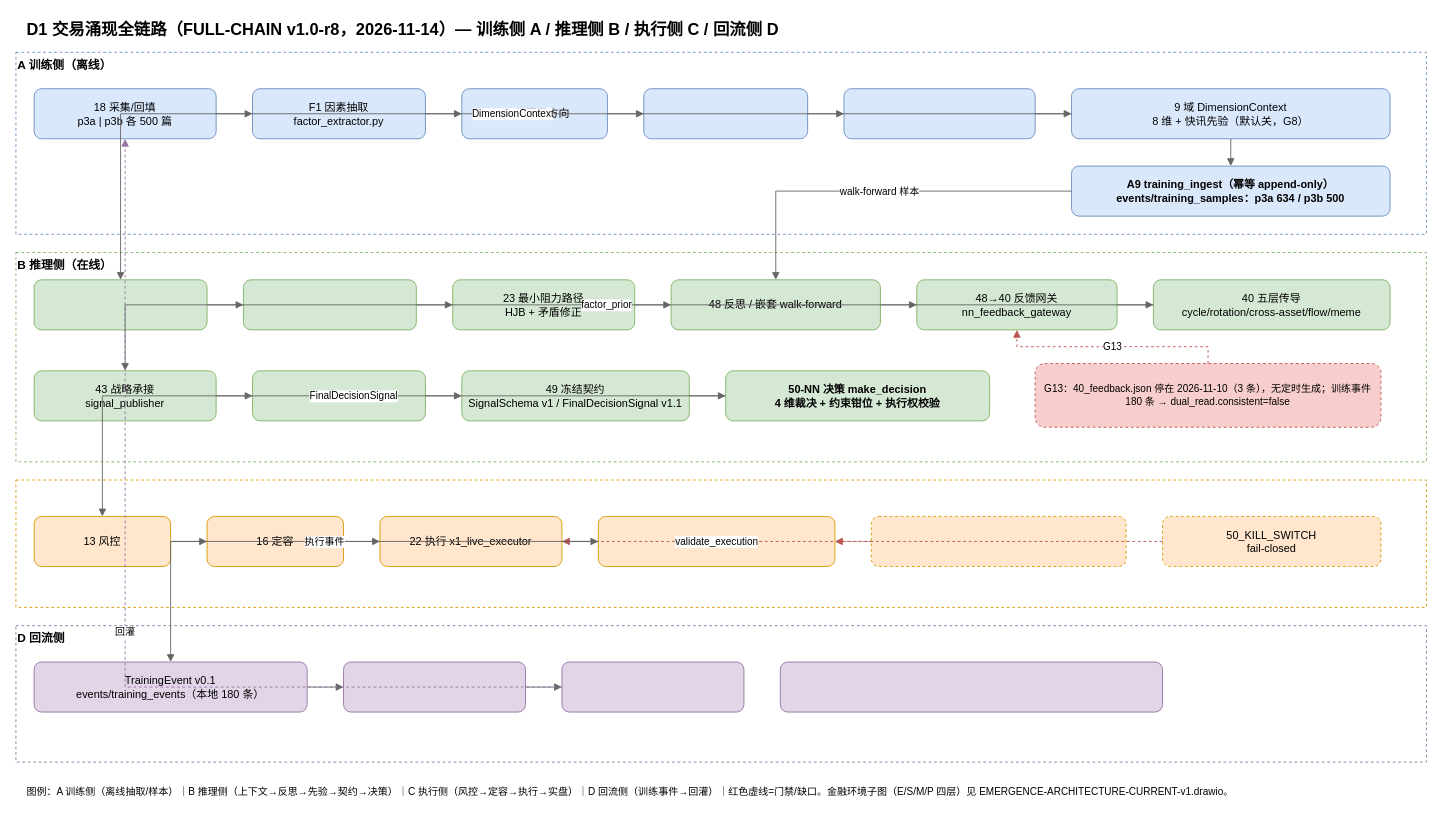
Some shapes in this 1442 by 832 pixel diagram are drawn without their labels. The shapes that lost their labels are listed below. From the top down, each one's box as (x1, y1, x2, y2) in pixels, then its label:
(643, 88, 808, 139): F3 主导主张 DominanceClaim
(843, 88, 1035, 139): 组合因子 / 主次矛盾 degraded=true（G7）
(33, 279, 207, 330): 9 域实时上下文 + 快讯先验
(243, 279, 416, 330): 33-REA 做梦器 思维树束搜索
(252, 370, 425, 421): 42 信号总线（通道）
(597, 516, 835, 566): 11 实盘 live_order_bridge BTC live:50-bypass 灰度
(15, 479, 1426, 607): C 执行侧
(870, 516, 1126, 566): execution_rights 单出口 47 registry/execution_rights.json
(343, 661, 526, 712): 做梦 / 反思 / 进化
(561, 661, 744, 712): 训练建议回灌（人工）
(779, 661, 1163, 712): join 键：decision_id → trace_id → action.trace_id → execution
